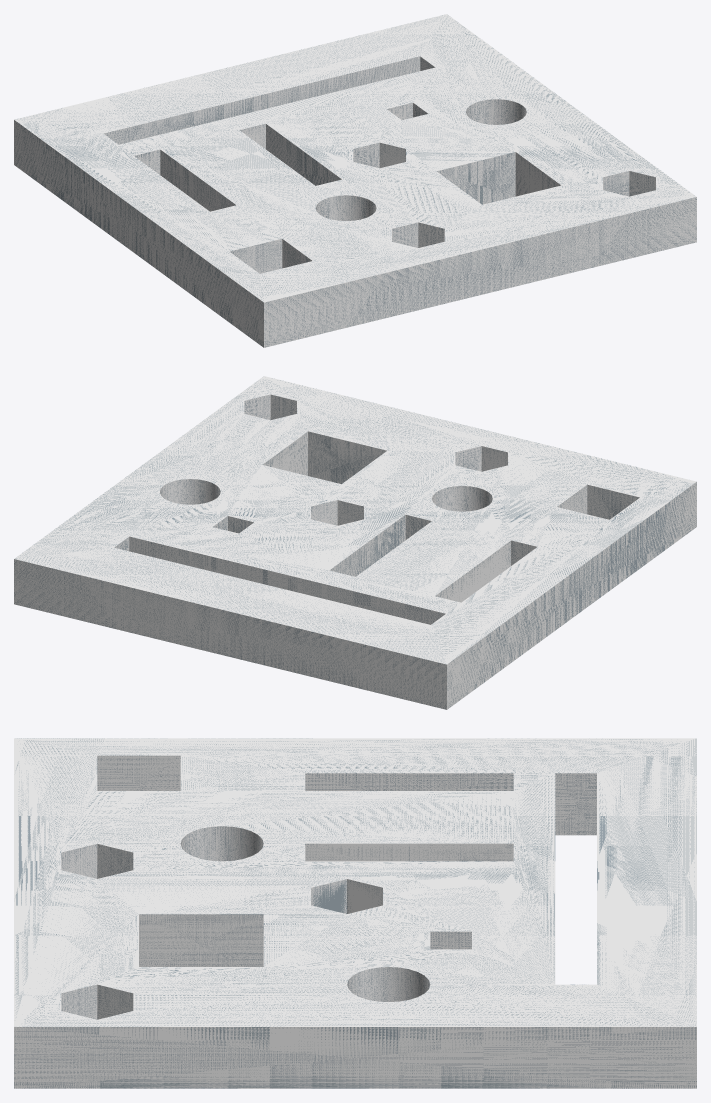
3 renders of one model, top to bottom at view 1: azimuth 30°, elevation 25°; view 2: azimuth 150°, elevation 25°; view 3: azimuth 270°, elevation 25°, orthographic. The views are drawn at different scales.
Visible parts, largest first — view 1: Model; view 2: Model; view 3: Model.
Part boxes in pixels (x1=…): Model: x1=14, y1=14, x2=696, y2=347; Model: x1=14, y1=376, x2=696, y2=709; Model: x1=14, y1=738, x2=696, y2=1088.
Size of the model in its own units: 5 by 0.5 by 5.
